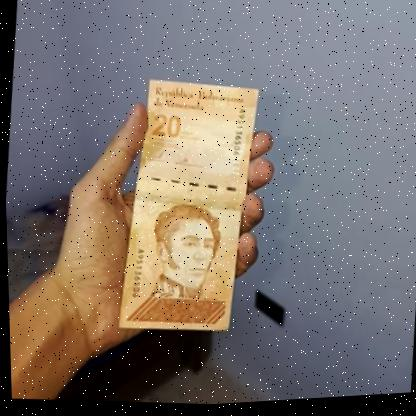vef_front: (112, 74, 265, 340)
